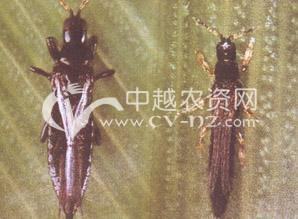pest: (45, 14, 95, 218), (208, 34, 244, 219)
